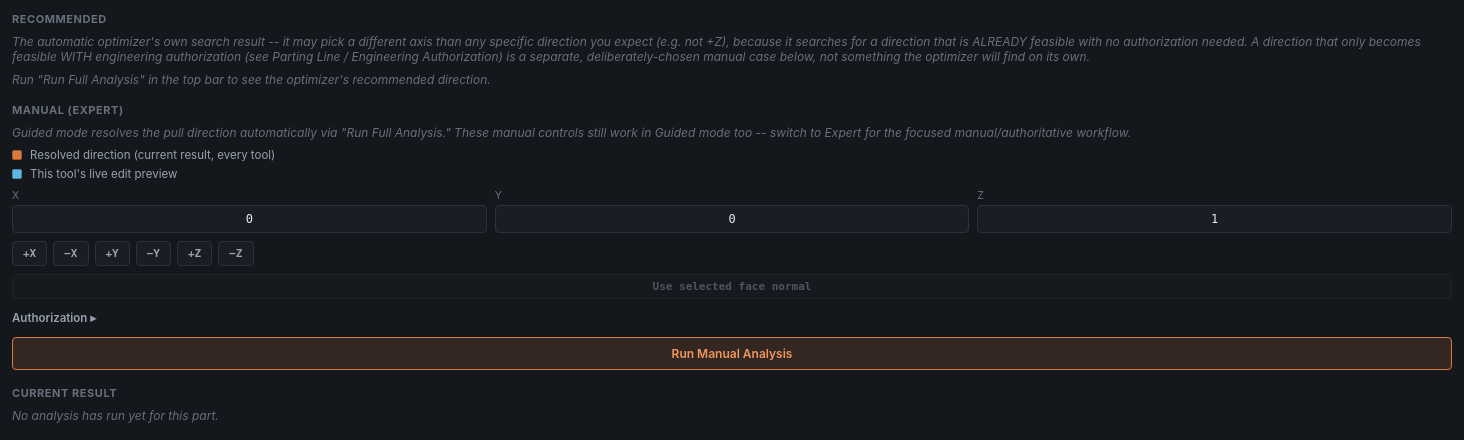
PullDirectionPanel › disables the run button while a vector field is not a valid number, without silently substituting a value
Replace the text in the field named "Manual pull direction X component" with "not-a-number": (249, 219) 12,205 -> 487,233
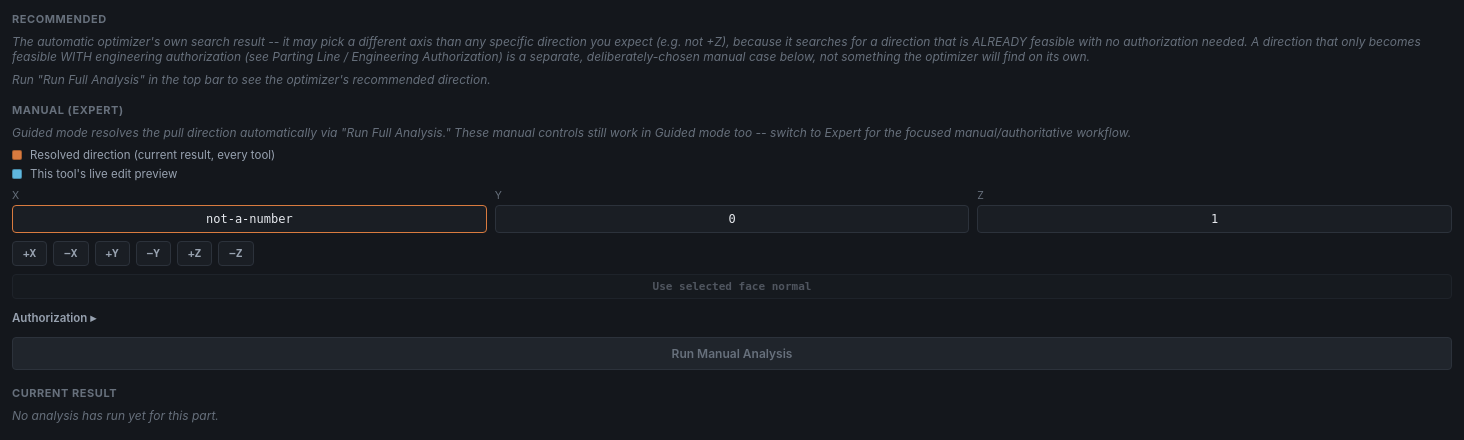
Expected: the button "Run Manual Analysis" is disabled, 12,337 -> 1452,370
